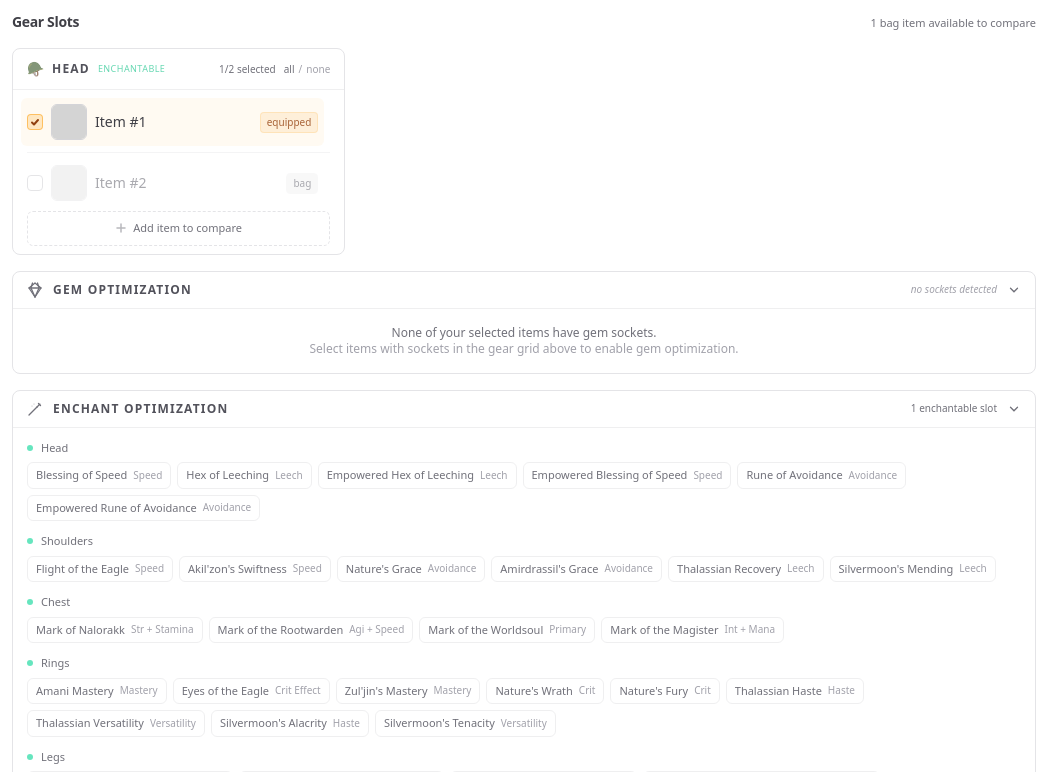
Test: GearPanel › allows deselecting when multiple items are selected in a slot
# Select the bag item too
Click the button "Item #2 bag" at (121, 183), box [21,159,324,207]
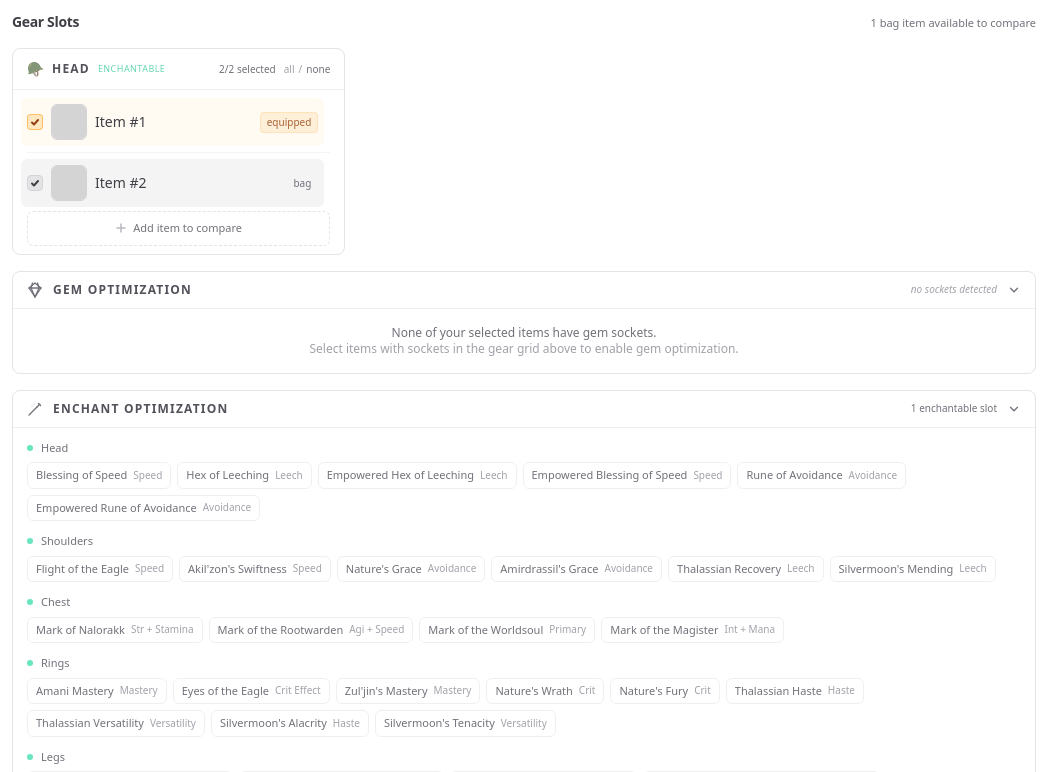
Now the text "2/2 selected" is shown, box [219,62,276,76]
# Now deselecting one should work (2 → 1)
Click the button "Item #1 equipped" at (121, 122), box [21,98,324,146]
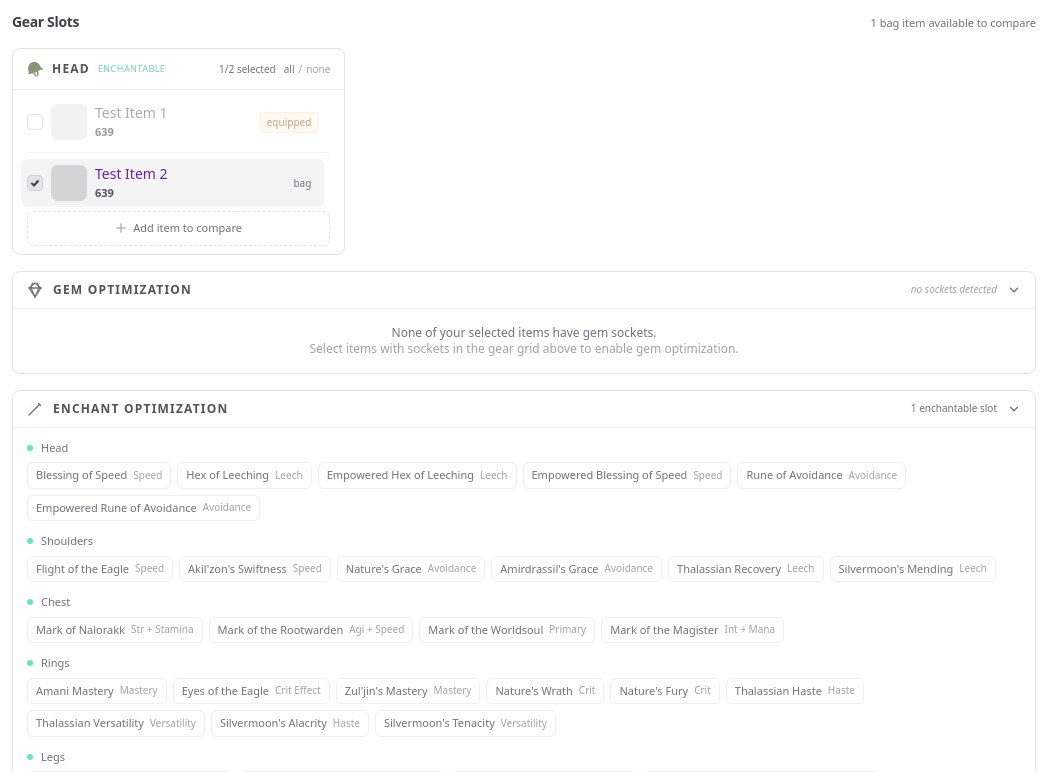
Now the text "1/2 selected" is shown, box [219,62,276,76]
